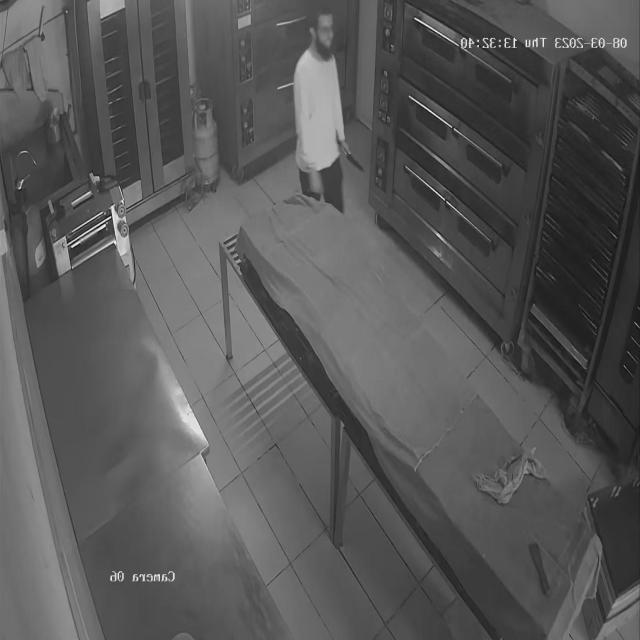Knife: (333, 138, 372, 178)
